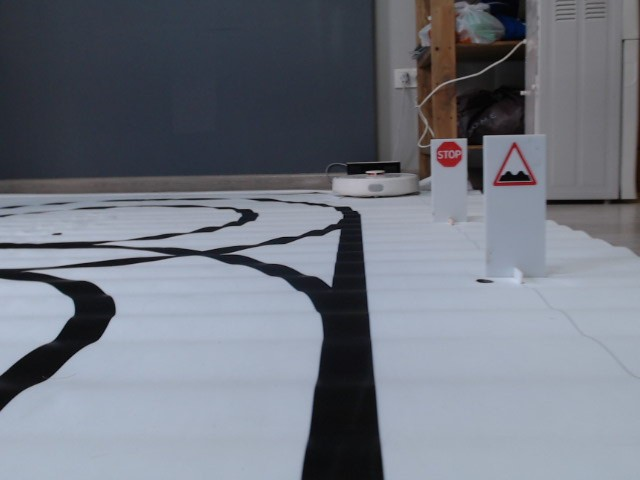Nerov: (491, 140, 540, 187)
Stop: (435, 140, 462, 168)
